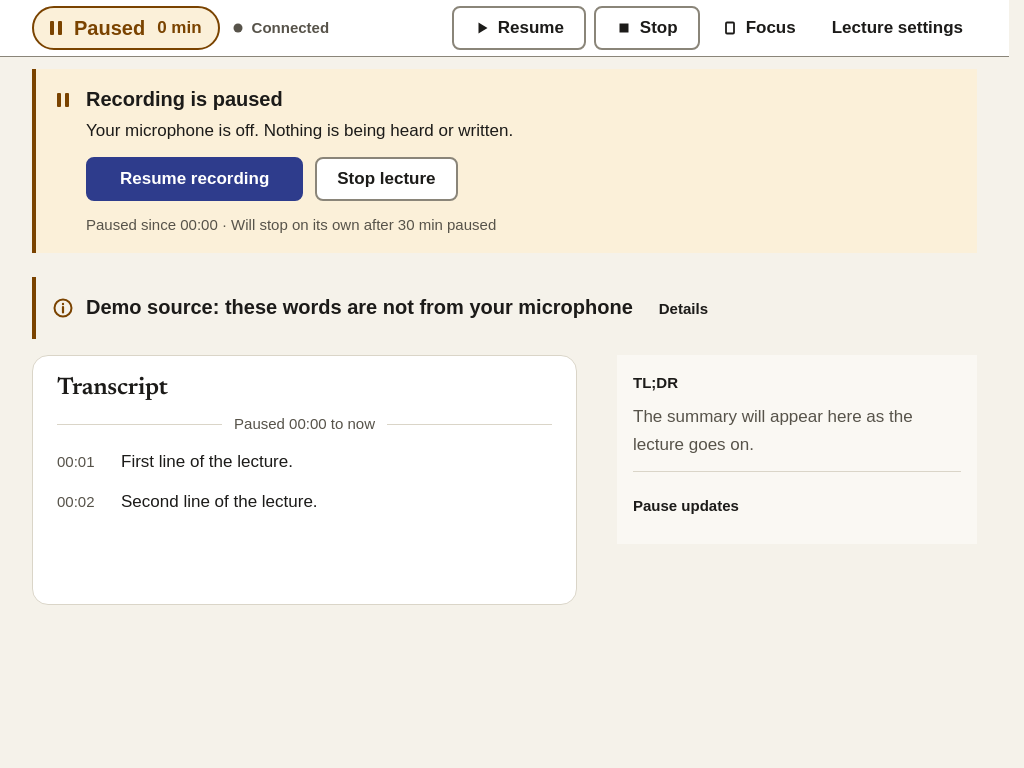
Test: criterion 3: the student's own Stop opens the move notice › Stop on the Paused note opens the same notice (one modal at a time: the confirm is gone)
Click the button "Stop lecture" at (386, 179), box [315,157,458,201]
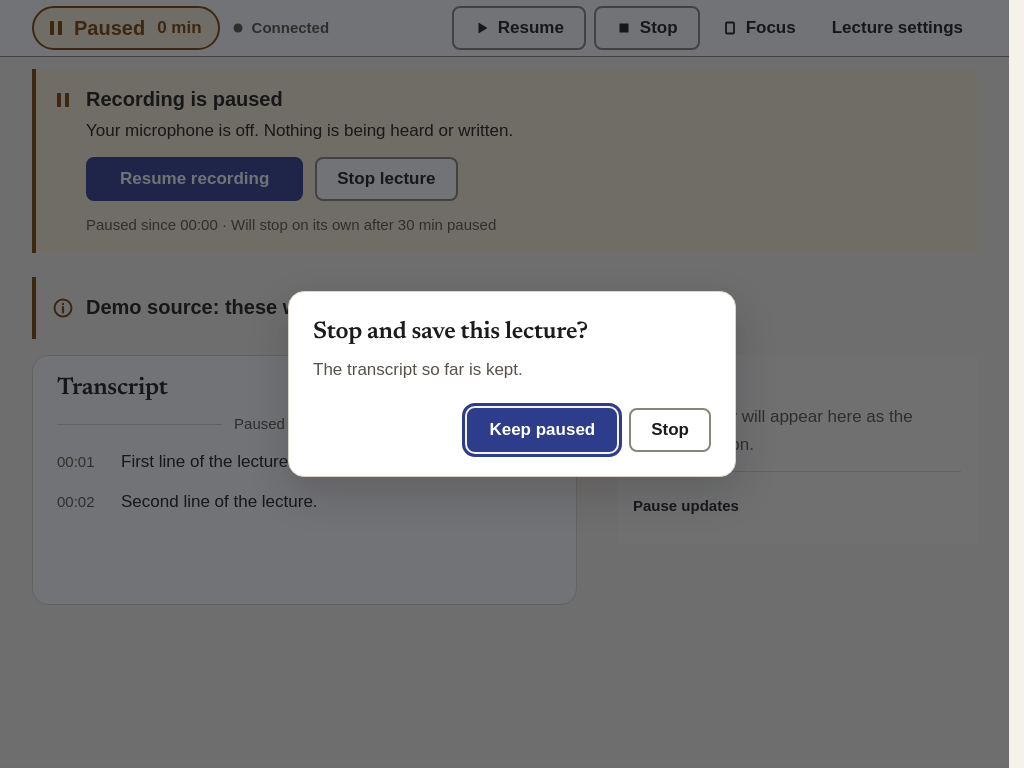
Click the button "Stop" at (670, 430), box [629,408,711,452]
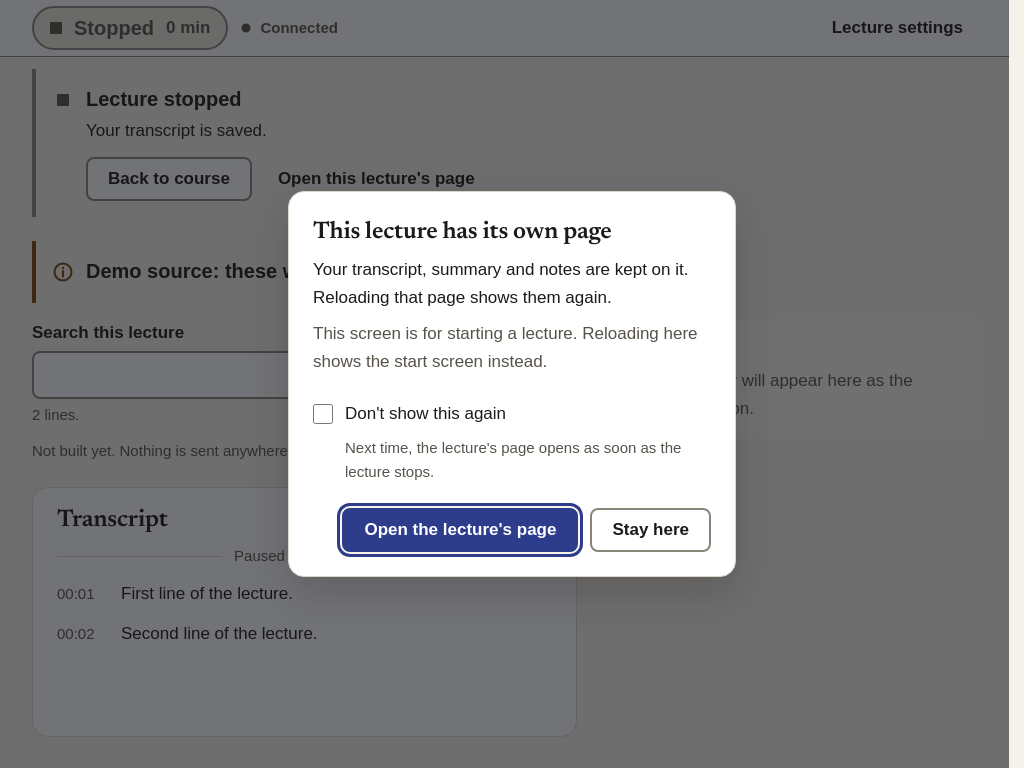
Check: the number of dialogs is 1, box [288,191,736,577]
